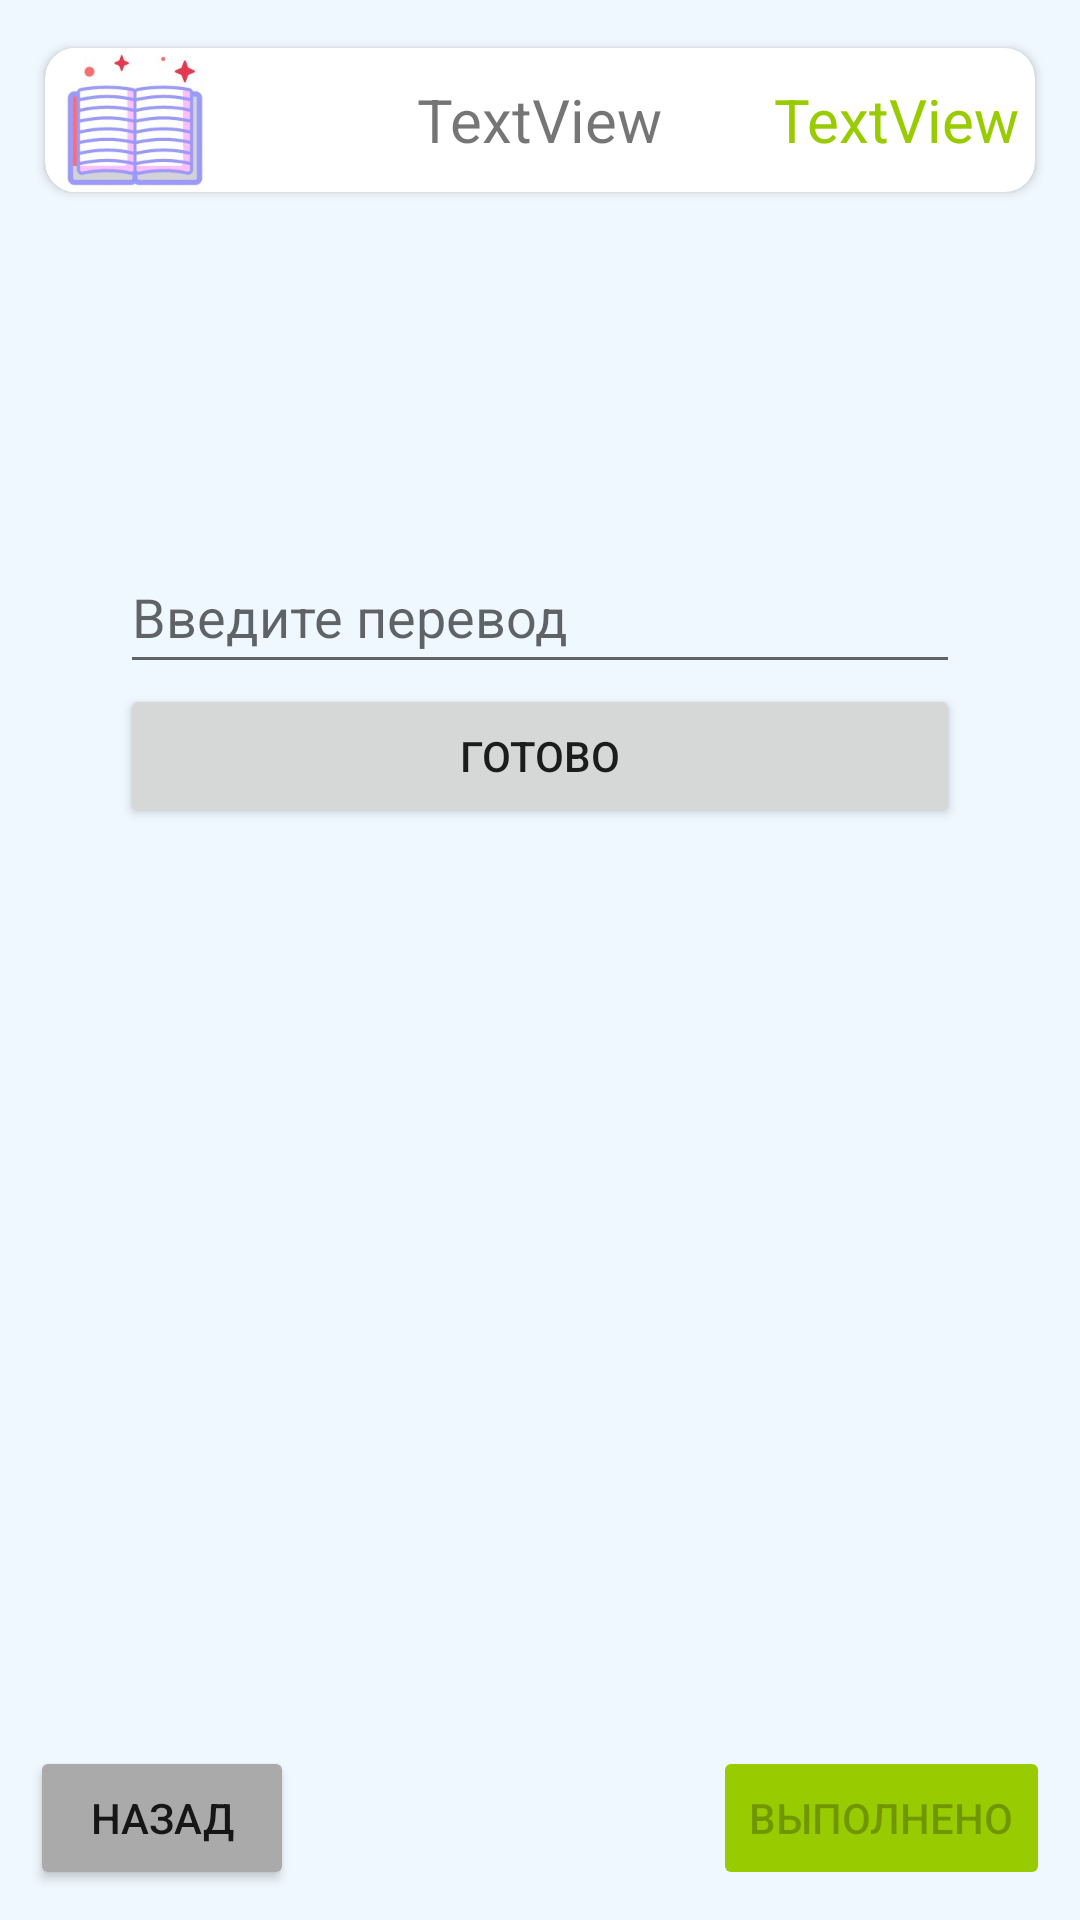

Where icons sit on this 1080×1920 app screen, as (x1, y1, x2, y2):
book: (60, 46, 210, 195)
